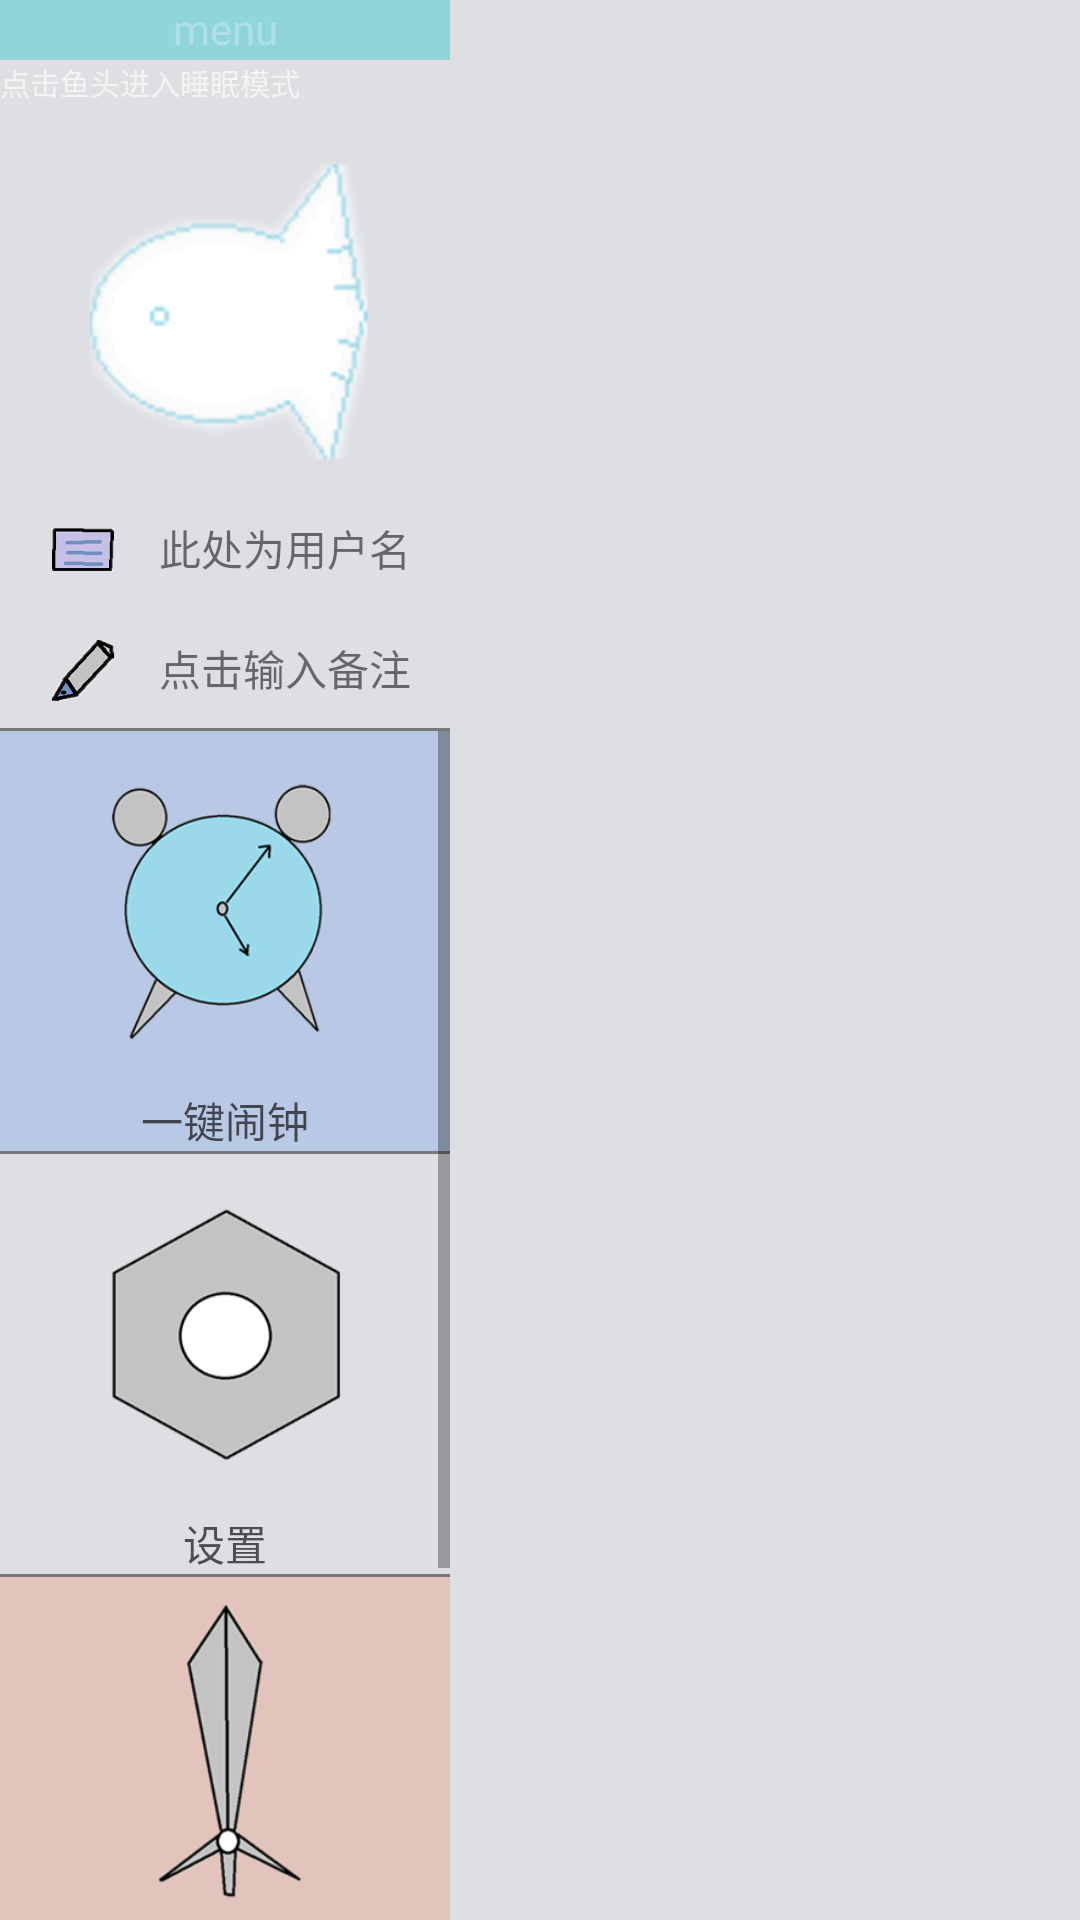

Icon bounding boxes for this 1080x1920 phone screenshot, format (x1, y1, x2, y2):
book: (52, 528, 114, 571)
pen: (52, 640, 114, 701)
